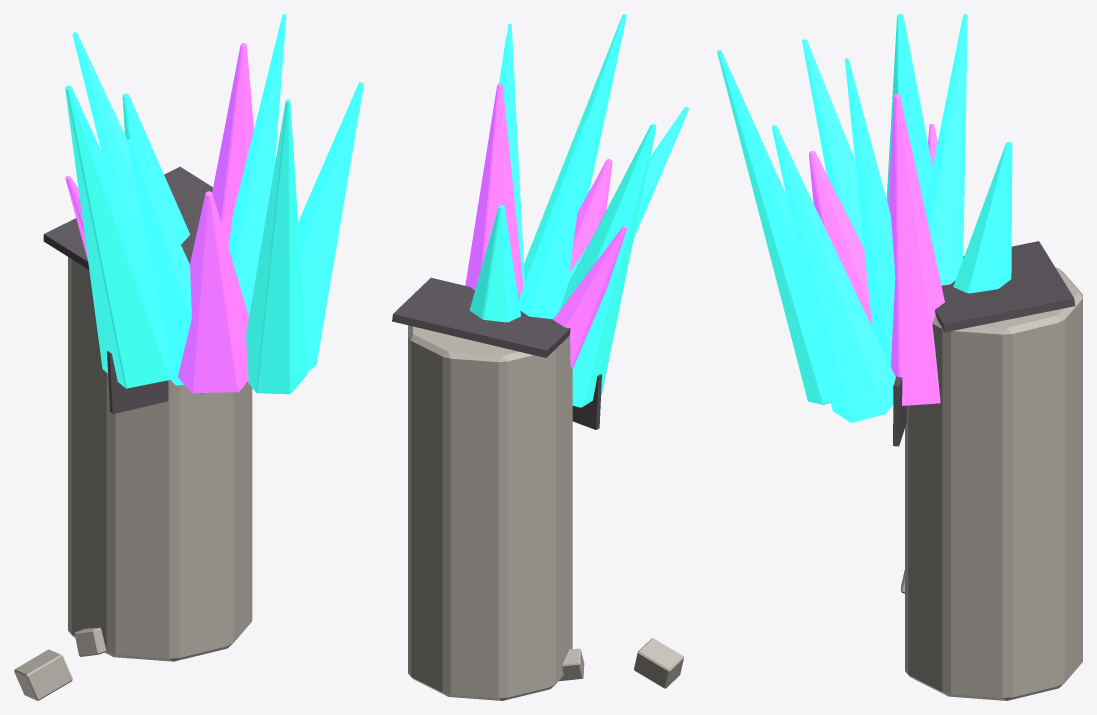
The model's file is runtime.glb.
3 renders of one model, left to right at view 1: azimuth 30°, elevation 25°; view 2: azimuth 150°, elevation 25°; view 3: azimuth 270°, elevation 25°, orthographic. The views are drawn at different scales.
Visible parts, largest first — view 1: crystal-ruins-crystal-growth-v05_host_column_nocol, crystal-ruins-crystal-growth-v05_crystal_05_nocol, crystal-ruins-crystal-growth-v05_crystal_08_nocol, crystal-ruins-crystal-growth-v05_crystal_07_nocol, crystal-ruins-crystal-growth-v05_crystal_09_nocol, crystal-ruins-crystal-growth-v05_crystal_06_nocol, crystal-ruins-crystal-growth-v05_crystal_00_nocol, crystal-ruins-crystal-growth-v05_crystal_01_nocol, crystal-ruins-crystal-growth-v05_crystal_03_nocol, crystal-ruins-crystal-growth-v05_fracture_00_nocol, crystal-ruins-crystal-growth-v05_crystal_02_nocol, crystal-ruins-crystal-growth-v05_stone_10_nocol (+2 smaller); view 2: crystal-ruins-crystal-growth-v05_host_column_nocol, crystal-ruins-crystal-growth-v05_crystal_05_nocol, crystal-ruins-crystal-growth-v05_fracture_00_nocol, crystal-ruins-crystal-growth-v05_crystal_03_nocol, crystal-ruins-crystal-growth-v05_crystal_01_nocol, crystal-ruins-crystal-growth-v05_crystal_08_nocol, crystal-ruins-crystal-growth-v05_crystal_02_nocol, crystal-ruins-crystal-growth-v05_crystal_04_nocol, crystal-ruins-crystal-growth-v05_crystal_00_nocol, crystal-ruins-crystal-growth-v05_crystal_07_nocol, crystal-ruins-crystal-growth-v05_stone_10_nocol, crystal-ruins-crystal-growth-v05_crystal_06_nocol (+2 smaller); view 3: crystal-ruins-crystal-growth-v05_host_column_nocol, crystal-ruins-crystal-growth-v05_crystal_09_nocol, crystal-ruins-crystal-growth-v05_crystal_01_nocol, crystal-ruins-crystal-growth-v05_crystal_08_nocol, crystal-ruins-crystal-growth-v05_crystal_03_nocol, crystal-ruins-crystal-growth-v05_crystal_00_nocol, crystal-ruins-crystal-growth-v05_fracture_00_nocol, crystal-ruins-crystal-growth-v05_crystal_02_nocol, crystal-ruins-crystal-growth-v05_crystal_06_nocol, crystal-ruins-crystal-growth-v05_crystal_07_nocol, crystal-ruins-crystal-growth-v05_crystal_05_nocol, crystal-ruins-crystal-growth-v05_fracture_01_nocol.
Boxes of the visible parts, bbox=[...] form: crystal-ruins-crystal-growth-v05_host_column_nocol: bbox=[68, 257, 252, 661]; crystal-ruins-crystal-growth-v05_crystal_05_nocol: bbox=[65, 85, 173, 388]; crystal-ruins-crystal-growth-v05_crystal_08_nocol: bbox=[246, 99, 307, 394]; crystal-ruins-crystal-growth-v05_crystal_07_nocol: bbox=[178, 191, 248, 393]; crystal-ruins-crystal-growth-v05_crystal_09_nocol: bbox=[298, 82, 363, 371]; crystal-ruins-crystal-growth-v05_crystal_06_nocol: bbox=[127, 138, 191, 385]; crystal-ruins-crystal-growth-v05_crystal_00_nocol: bbox=[228, 14, 286, 316]; crystal-ruins-crystal-growth-v05_crystal_01_nocol: bbox=[212, 43, 253, 247]; crystal-ruins-crystal-growth-v05_crystal_03_nocol: bbox=[72, 32, 139, 234]; crystal-ruins-crystal-growth-v05_fracture_00_nocol: bbox=[43, 166, 212, 269]; crystal-ruins-crystal-growth-v05_crystal_02_nocol: bbox=[122, 93, 189, 244]; crystal-ruins-crystal-growth-v05_stone_10_nocol: bbox=[14, 649, 72, 700]; crystal-ruins-crystal-growth-v05_host_column_nocol: bbox=[408, 293, 572, 700]; crystal-ruins-crystal-growth-v05_crystal_05_nocol: bbox=[559, 124, 656, 407]; crystal-ruins-crystal-growth-v05_fracture_00_nocol: bbox=[392, 277, 570, 357]; crystal-ruins-crystal-growth-v05_crystal_03_nocol: bbox=[518, 120, 589, 319]; crystal-ruins-crystal-growth-v05_crystal_01_nocol: bbox=[465, 83, 523, 293]; crystal-ruins-crystal-growth-v05_crystal_08_nocol: bbox=[524, 14, 626, 282]; crystal-ruins-crystal-growth-v05_crystal_02_nocol: bbox=[470, 204, 520, 322]; crystal-ruins-crystal-growth-v05_crystal_04_nocol: bbox=[553, 226, 626, 368]; crystal-ruins-crystal-growth-v05_crystal_00_nocol: bbox=[502, 24, 524, 286]; crystal-ruins-crystal-growth-v05_crystal_07_nocol: bbox=[569, 159, 612, 272]; crystal-ruins-crystal-growth-v05_stone_10_nocol: bbox=[634, 638, 683, 688]; crystal-ruins-crystal-growth-v05_crystal_06_nocol: bbox=[567, 107, 688, 284]; crystal-ruins-crystal-growth-v05_host_column_nocol: bbox=[905, 267, 1082, 700]; crystal-ruins-crystal-growth-v05_crystal_09_nocol: bbox=[771, 125, 895, 422]; crystal-ruins-crystal-growth-v05_crystal_01_nocol: bbox=[888, 94, 944, 405]; crystal-ruins-crystal-growth-v05_crystal_08_nocol: bbox=[717, 50, 832, 404]; crystal-ruins-crystal-growth-v05_crystal_03_nocol: bbox=[924, 14, 967, 285]; crystal-ruins-crystal-growth-v05_crystal_00_nocol: bbox=[845, 58, 895, 365]; crystal-ruins-crystal-growth-v05_fracture_00_nocol: bbox=[935, 241, 1075, 332]; crystal-ruins-crystal-growth-v05_crystal_02_nocol: bbox=[953, 141, 1012, 293]; crystal-ruins-crystal-growth-v05_crystal_06_nocol: bbox=[802, 39, 863, 247]; crystal-ruins-crystal-growth-v05_crystal_07_nocol: bbox=[809, 151, 871, 326]; crystal-ruins-crystal-growth-v05_crystal_05_nocol: bbox=[886, 14, 932, 207]; crystal-ruins-crystal-growth-v05_fracture_01_nocol: bbox=[893, 376, 906, 446].
Bounding box in the file's own units: 3.36 × 7.89 × 4.1.
